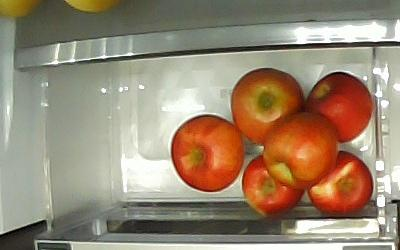apple: (261, 109, 339, 189), (229, 66, 305, 145), (169, 113, 245, 191), (305, 70, 373, 143), (305, 148, 374, 217), (241, 152, 305, 216)
